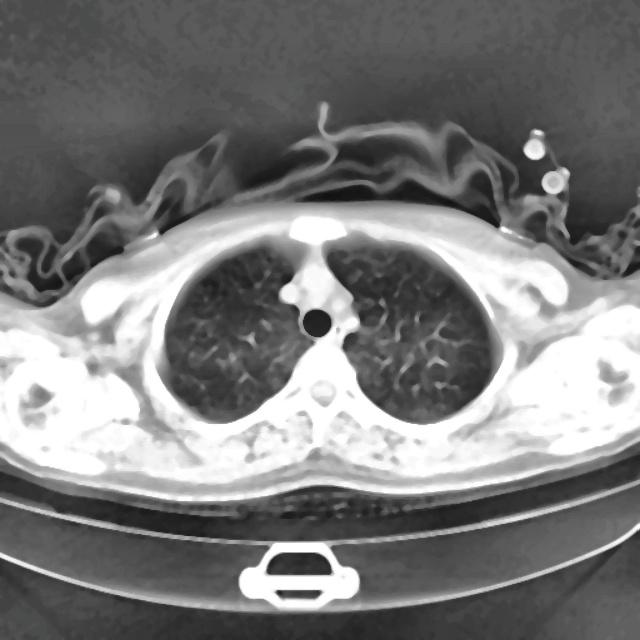covid: (0, 105, 638, 520)
